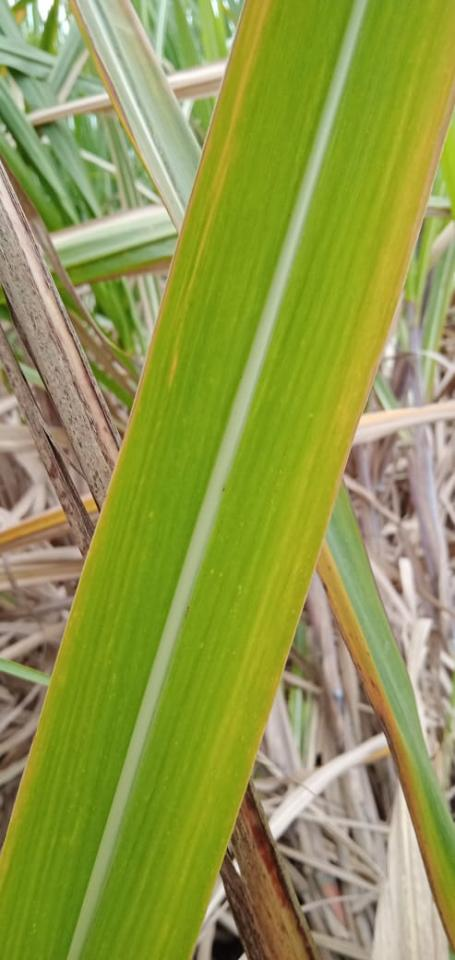Yellow: (316, 537, 454, 954), (327, 77, 454, 528), (125, 0, 250, 437), (186, 0, 271, 290), (169, 352, 177, 387)
